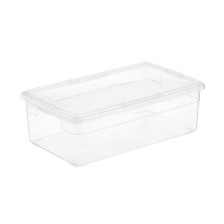plastic_box: (12, 52, 211, 171)
